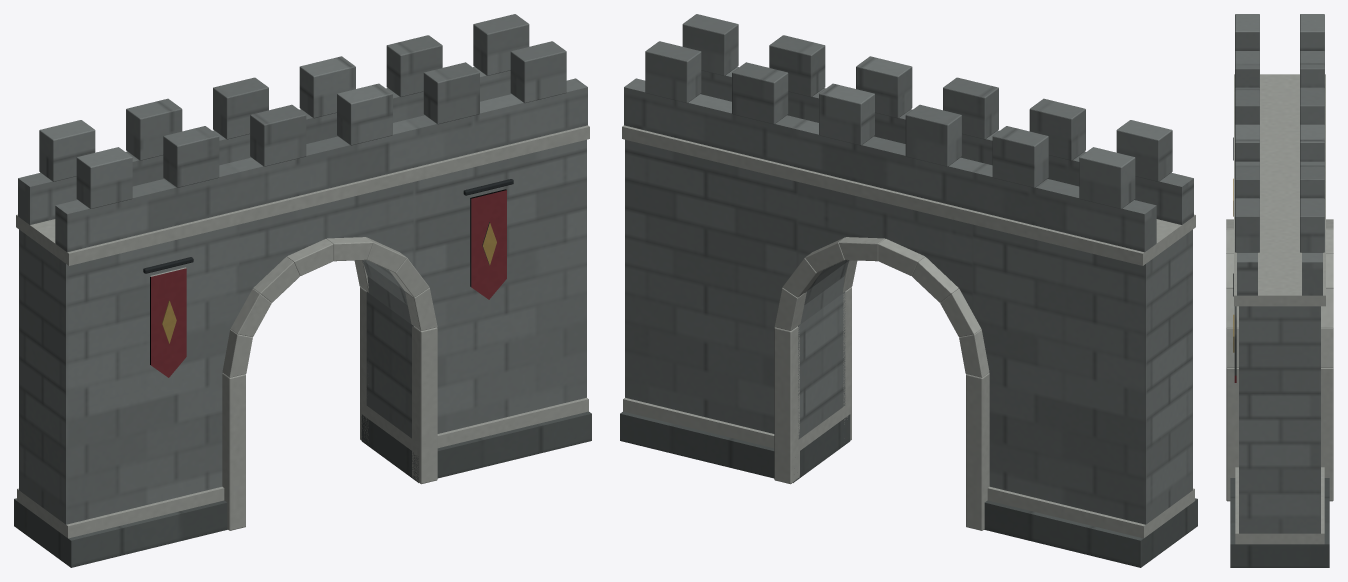
The model's file is Granite_Gate.fbx.
3 renders of one model, left to right at view 1: azimuth 30°, elevation 25°; view 2: azimuth 150°, elevation 25°; view 3: azimuth 270°, elevation 25°, orthographic. The views are drawn at different scales.
Parts seen in each view (by area): view 1: Granite_Gate.001; view 2: Granite_Gate.001; view 3: Granite_Gate.001.
Boxes of the visible parts, box(x1,y1,x2,y2) form: Granite_Gate.001: box(14, 14, 591, 567); Granite_Gate.001: box(620, 14, 1197, 567); Granite_Gate.001: box(1226, 14, 1333, 567).
Bounding box in the file's own units: 8 × 5.77 × 1.64.
